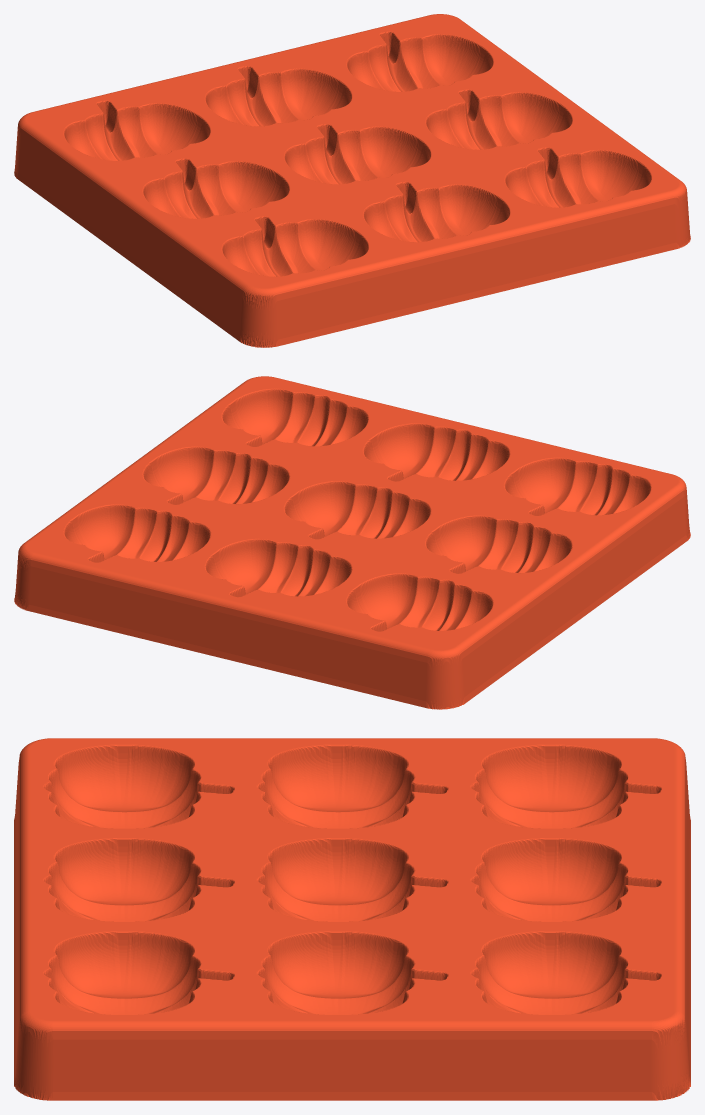
The model's file is mold.glb.
3 views of the same model, one above another, from view 1: azimuth 30°, elevation 25°; view 2: azimuth 150°, elevation 25°; view 3: azimuth 270°, elevation 25° (orthographic). The views are drawn at different scales.
Visible parts, largest first — view 1: geometry_0; view 2: geometry_0; view 3: geometry_0.
Part boxes in pixels (<box>): geometry_0: <box>14,14,690,347</box>; geometry_0: <box>14,376,690,709</box>; geometry_0: <box>14,738,690,1100</box>.
Bounding box in the file's own units: 0.1595 × 0.0185 × 0.1547.
